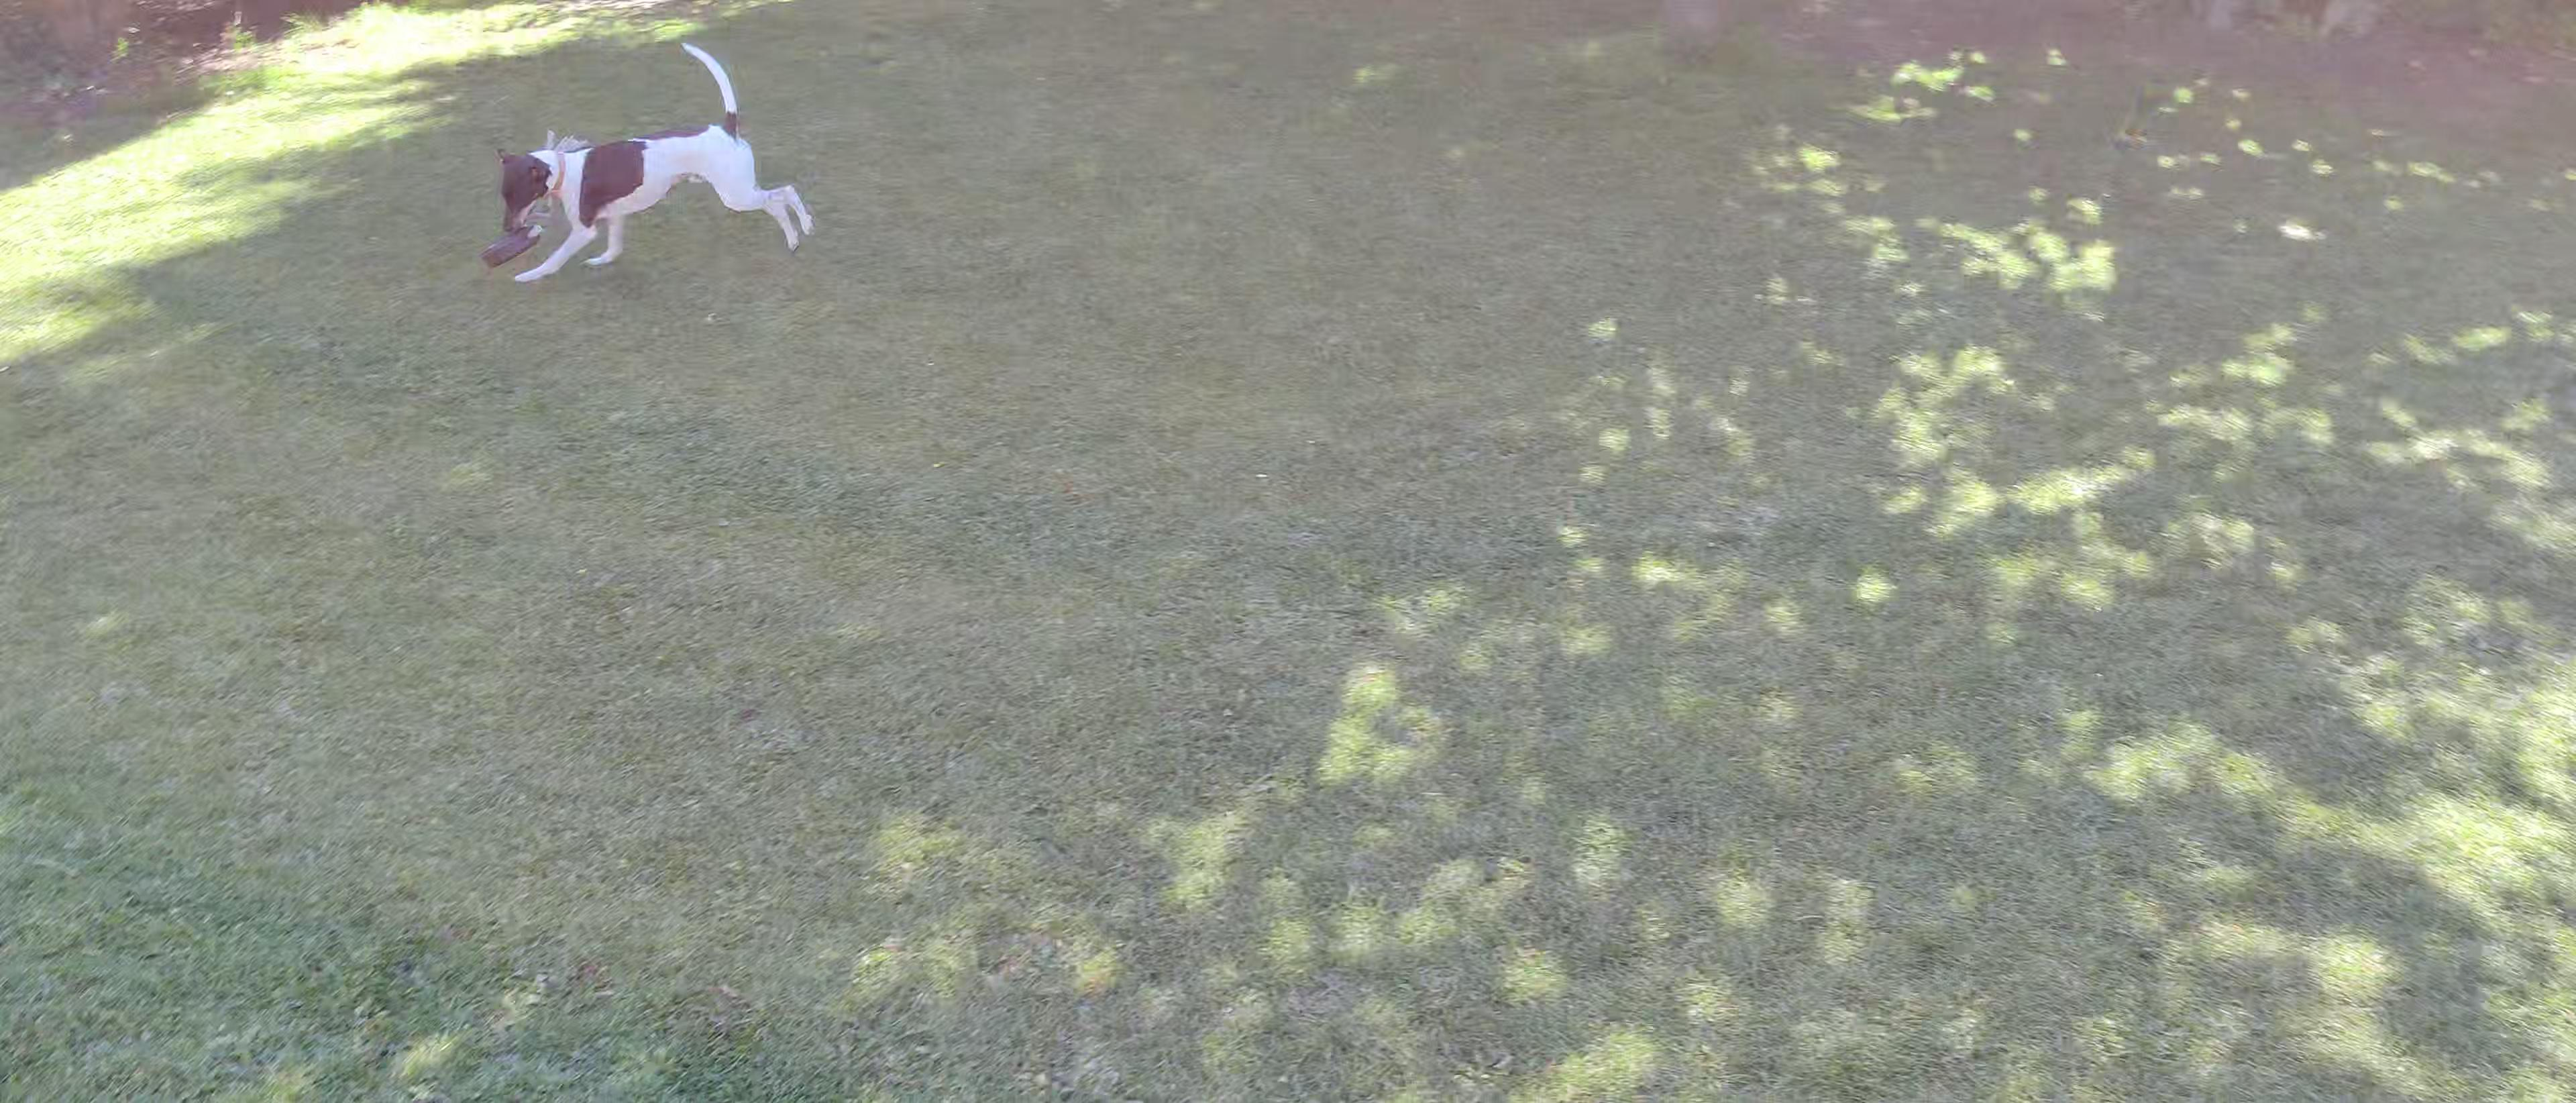Dog: (486, 31, 820, 291)
